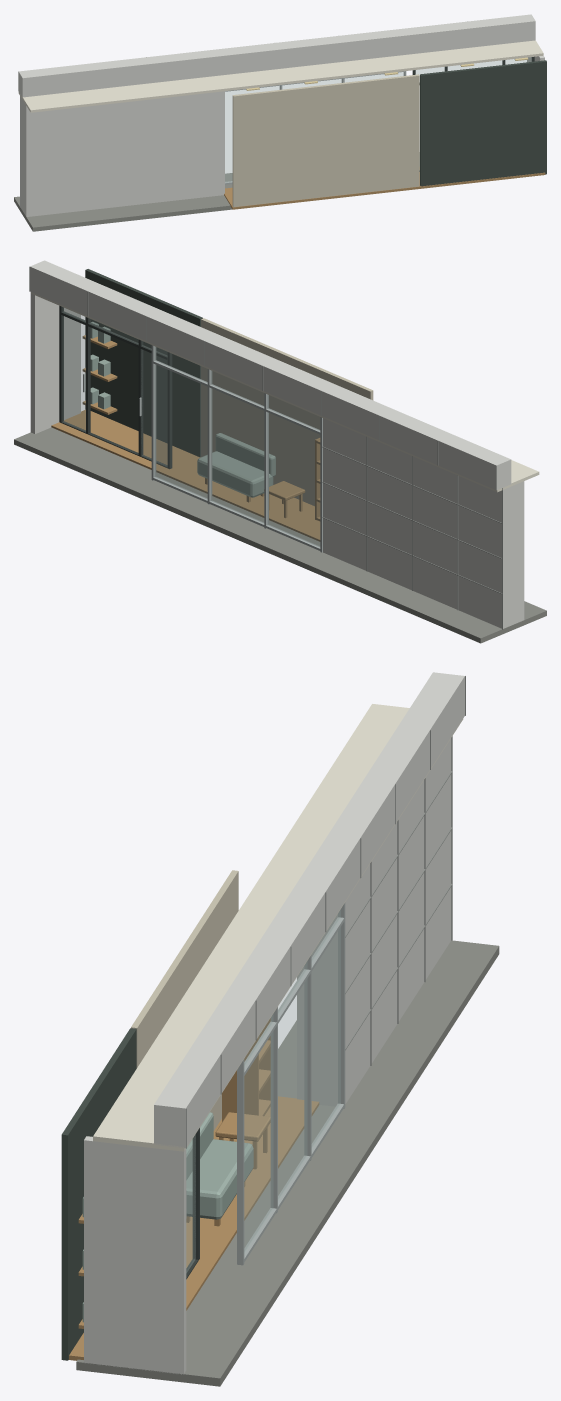
Rendered from d04-entry.glb.
3 views of the same model, one above another, from view 1: azimuth 30°, elevation 25°; view 2: azimuth 150°, elevation 25°; view 3: azimuth 270°, elevation 25° (orthographic). The views are drawn at different scales.
Parts seen in each view (by area): view 1: observed_white_tile, inferred_interior_cream, inferred_entry_shadow, observed_soffit, observed_threshold, observed_glazing, inferred_oak_display; view 2: observed_white_tile, observed_glazing, observed_threshold, inferred_interior_cream, inferred_entry_shadow, inferred_oak_display, observed_silver_frames, inferred_neutral_fabric, observed_dark_entry_frames, observed_joint_shadow, observed_soffit; view 3: observed_white_tile, observed_threshold, observed_soffit, observed_glazing, inferred_oak_display, observed_silver_frames, inferred_entry_shadow, inferred_interior_cream, inferred_neutral_fabric, observed_joint_shadow, observed_dark_entry_frames.
Boxes of the visible parts, x1=… form: observed_white_tile: x1=18, y1=14, x2=544, y2=216; inferred_interior_cream: x1=232, y1=74, x2=419, y2=207; inferred_entry_shadow: x1=420, y1=60, x2=546, y2=186; observed_soffit: x1=18, y1=40, x2=543, y2=112; observed_threshold: x1=14, y1=152, x2=545, y2=231; observed_glazing: x1=225, y1=57, x2=531, y2=182; inferred_oak_display: x1=224, y1=167, x2=545, y2=209; observed_white_tile: x1=30, y1=260, x2=524, y2=628; observed_glazing: x1=63, y1=307, x2=319, y2=547; observed_threshold: x1=14, y1=427, x2=546, y2=643; inferred_interior_cream: x1=201, y1=318, x2=373, y2=505; inferred_entry_shadow: x1=85, y1=269, x2=202, y2=456; inferred_oak_display: x1=51, y1=335, x2=320, y2=541; observed_silver_frames: x1=83, y1=345, x2=322, y2=552; inferred_neutral_fabric: x1=90, y1=322, x2=275, y2=497; observed_dark_entry_frames: x1=59, y1=306, x2=172, y2=468; observed_joint_shadow: x1=29, y1=266, x2=502, y2=629; observed_soffit: x1=30, y1=292, x2=539, y2=492; observed_white_tile: x1=84, y1=672, x2=464, y2=1374; observed_threshold: x1=76, y1=940, x2=499, y2=1386; observed_soffit: x1=93, y1=704, x2=463, y2=1151; observed_glazing: x1=186, y1=909, x2=340, y2=1272; inferred_oak_display: x1=69, y1=1018, x2=319, y2=1360; observed_silver_frames: x1=186, y1=902, x2=345, y2=1265; inferred_entry_shadow: x1=61, y1=1028, x2=136, y2=1360; inferred_interior_cream: x1=131, y1=870, x2=238, y2=1130; inferred_neutral_fabric: x1=82, y1=1036, x2=259, y2=1322; observed_joint_shadow: x1=186, y1=676, x2=465, y2=1148; observed_dark_entry_frames: x1=186, y1=1128, x2=199, y2=1279.
Size of the model in its own units: 12.82 by 3.65 by 5.28.
